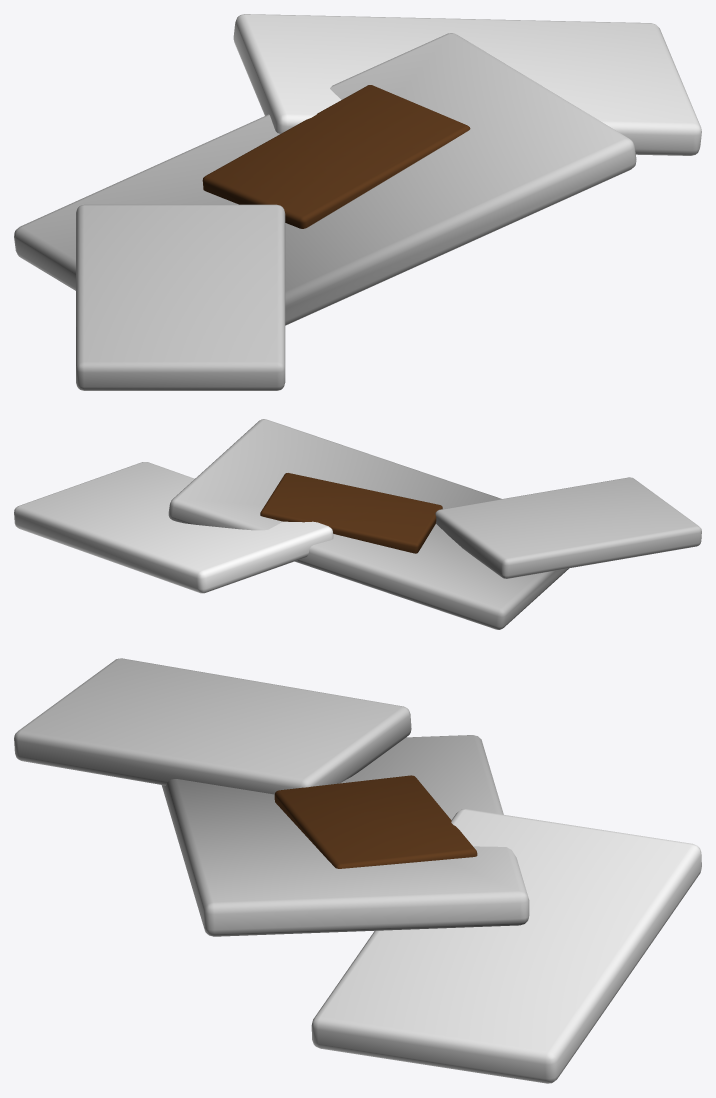
The model's file is loose-bark.obj.
The picture shows the model from 3 angles, top to bottom: view 1: azimuth 30°, elevation 25°; view 2: azimuth 150°, elevation 25°; view 3: azimuth 270°, elevation 25°; orthographic projection. The views are drawn at different scales.
Visible parts, largest first — view 1: loose-bark; view 2: loose-bark; view 3: loose-bark.
Boxes of the visible parts, x1,y1,x2,y2 form: loose-bark: (14,14,701,390); loose-bark: (14,419,701,629); loose-bark: (14,658,701,1083).
Bounding box in the file's own units: 0.5692 × 0.0674 × 0.4212.
